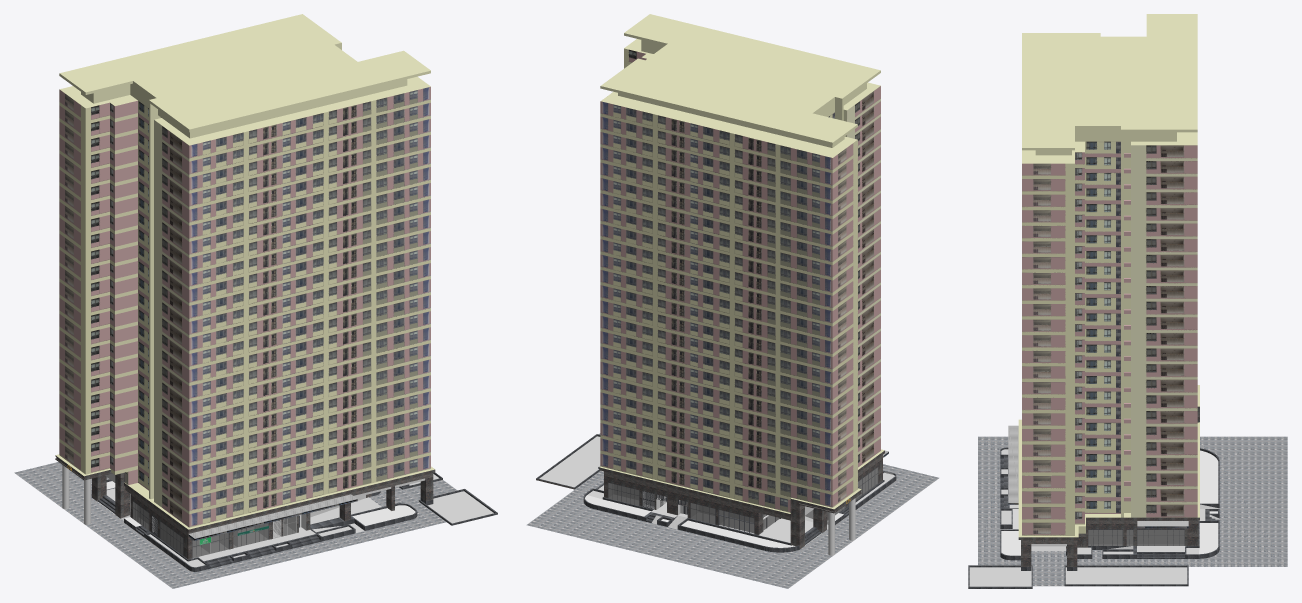
3 views of the same model, side by side, from view 1: azimuth 30°, elevation 25°; view 2: azimuth 150°, elevation 25°; view 3: azimuth 270°, elevation 25° (orthographic). The views are drawn at different scales.
Parts seen in each view (by area): view 1: _(Loose Entity), image_22, image_289, image_293, image_299, image_197, image_244, image_288, image_12, image_124, image_214, image_231 (+37 smaller); view 2: _(Loose Entity), image_164, image_106, image_315, image_126, image_333, image_45, image_172, image_107, image_170, image_199, image_222 (+38 smaller); view 3: _(Loose Entity), image_111, image_284, image_314, image_332, image_53, image_96, image_1, image_118, image_136, image_167, image_173 (+63 smaller).
Boxes of the visible parts, x1=… form: _(Loose Entity): x1=14, y1=14, x2=497, y2=588; image_22: x1=189, y1=140, x2=342, y2=193; image_289: x1=189, y1=220, x2=342, y2=273; image_293: x1=189, y1=156, x2=342, y2=209; image_299: x1=189, y1=108, x2=342, y2=161; image_197: x1=189, y1=284, x2=342, y2=337; image_244: x1=189, y1=124, x2=342, y2=177; image_288: x1=189, y1=236, x2=342, y2=289; image_12: x1=189, y1=413, x2=342, y2=465; image_124: x1=189, y1=380, x2=342, y2=433; image_214: x1=189, y1=364, x2=342, y2=417; image_231: x1=189, y1=204, x2=342, y2=257; _(Loose Entity): x1=526, y1=14, x2=938, y2=588; image_164: x1=600, y1=361, x2=748, y2=412; image_106: x1=600, y1=147, x2=748, y2=198; image_315: x1=600, y1=193, x2=748, y2=244; image_126: x1=600, y1=101, x2=748, y2=152; image_333: x1=600, y1=224, x2=748, y2=274; image_45: x1=600, y1=315, x2=748, y2=366; image_172: x1=600, y1=285, x2=748, y2=336; image_107: x1=600, y1=392, x2=748, y2=443; image_170: x1=600, y1=239, x2=748, y2=290; image_199: x1=600, y1=116, x2=748, y2=167; image_222: x1=600, y1=423, x2=748, y2=473; _(Loose Entity): x1=968, y1=14, x2=1287, y2=588; image_111: x1=1131, y1=207, x2=1197, y2=223; image_284: x1=1131, y1=379, x2=1197, y2=395; image_314: x1=1131, y1=332, x2=1197, y2=348; image_332: x1=1131, y1=457, x2=1197, y2=473; image_53: x1=1131, y1=410, x2=1197, y2=426; image_96: x1=1131, y1=254, x2=1197, y2=270; image_1: x1=1131, y1=270, x2=1197, y2=285; image_118: x1=1131, y1=364, x2=1197, y2=379; image_136: x1=1131, y1=176, x2=1197, y2=191; image_167: x1=1131, y1=442, x2=1197, y2=457; image_173: x1=1131, y1=489, x2=1197, y2=504.
Bounding box in the file's own units: 63.46 × 83.1 × 55.56.
33 materials, 25 textured.
